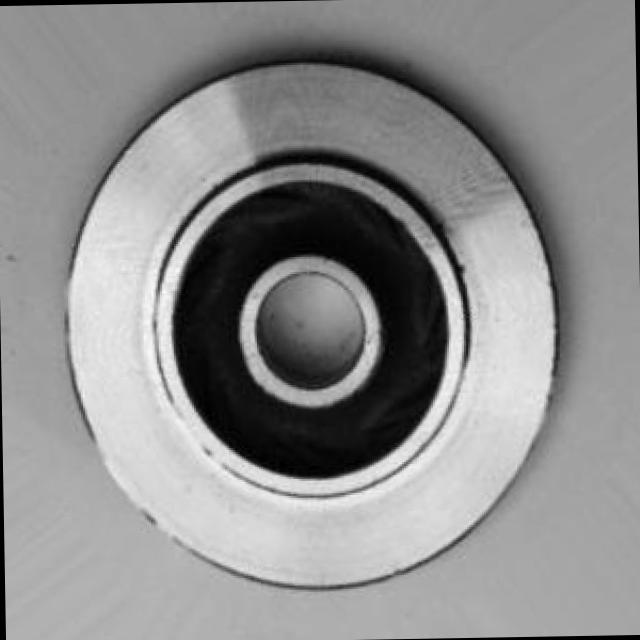Defect: (450, 250, 480, 288)
